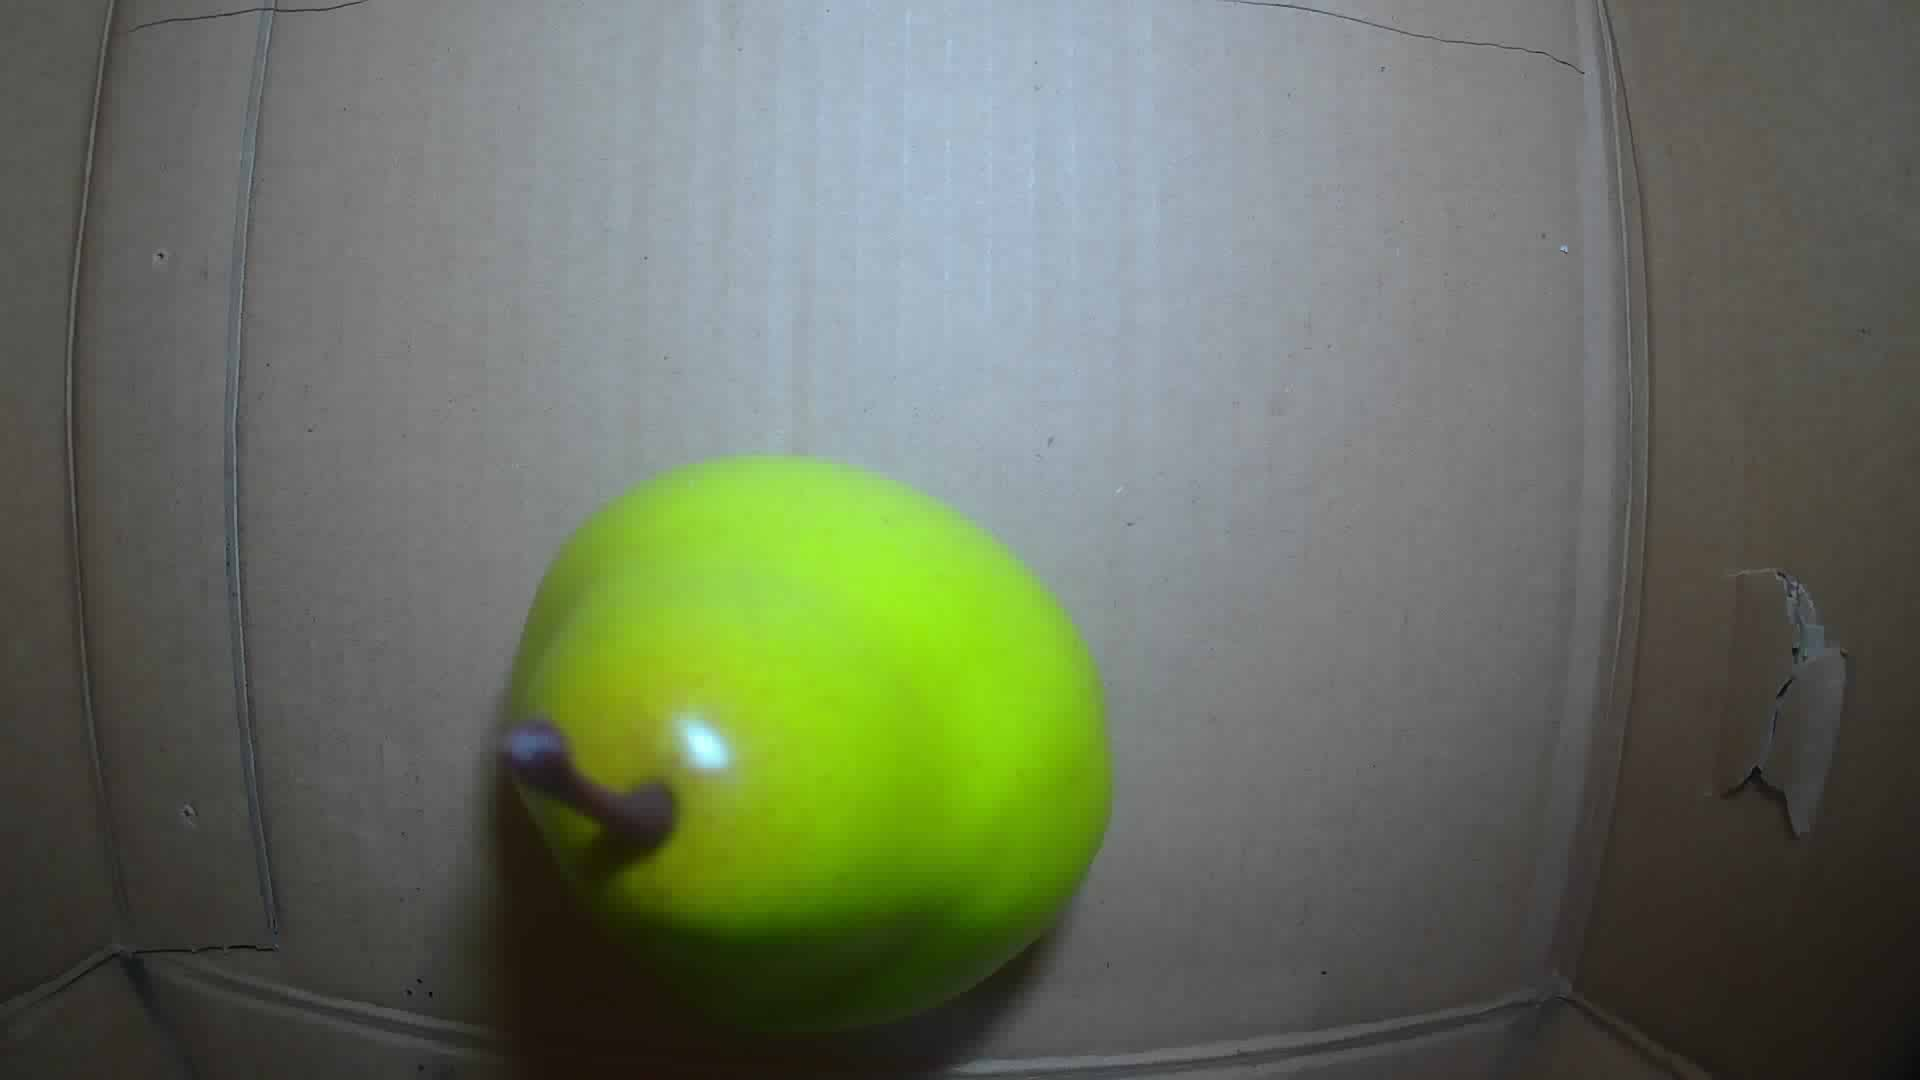pear: (500, 455, 1118, 1036)
